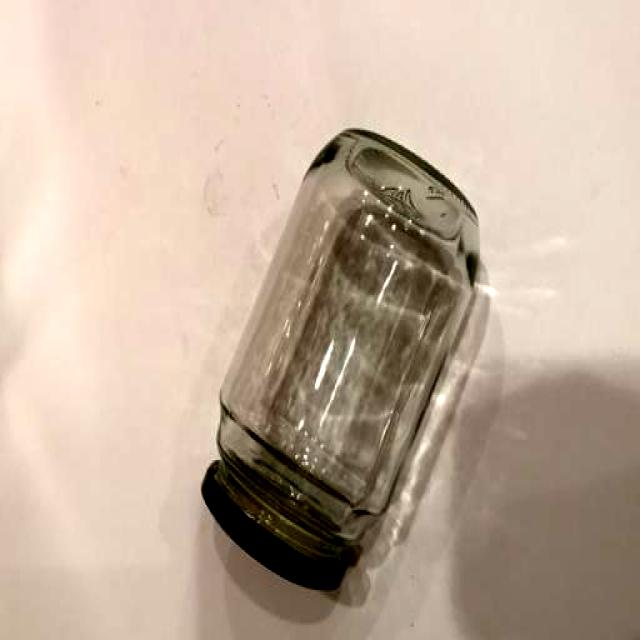Glass: (192, 106, 493, 617)
